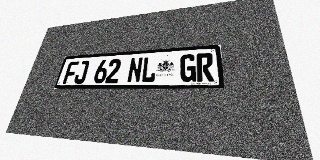2: (105, 58, 122, 83)
6: (93, 59, 110, 83)
F: (62, 61, 79, 84)
G: (180, 54, 196, 82)
J: (73, 60, 90, 84)
L: (141, 56, 157, 83)
N: (127, 57, 143, 83)
R: (197, 53, 214, 82)
